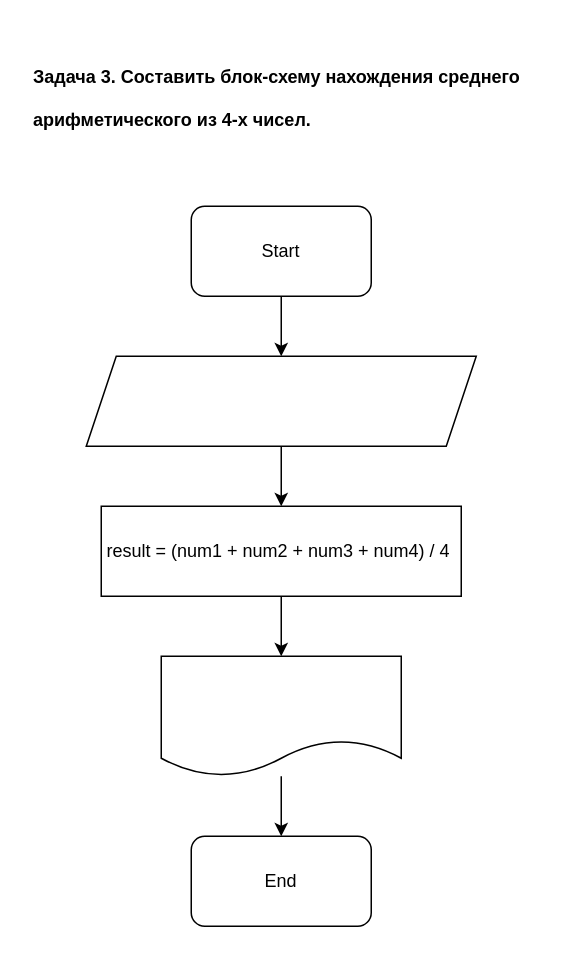
Image size: 561x953. Some labels were removed from this diagram. Each missing label, with the centre of its shape:
result: (280,715)
Дано: num1, num2, num3, num4: (280,400)
